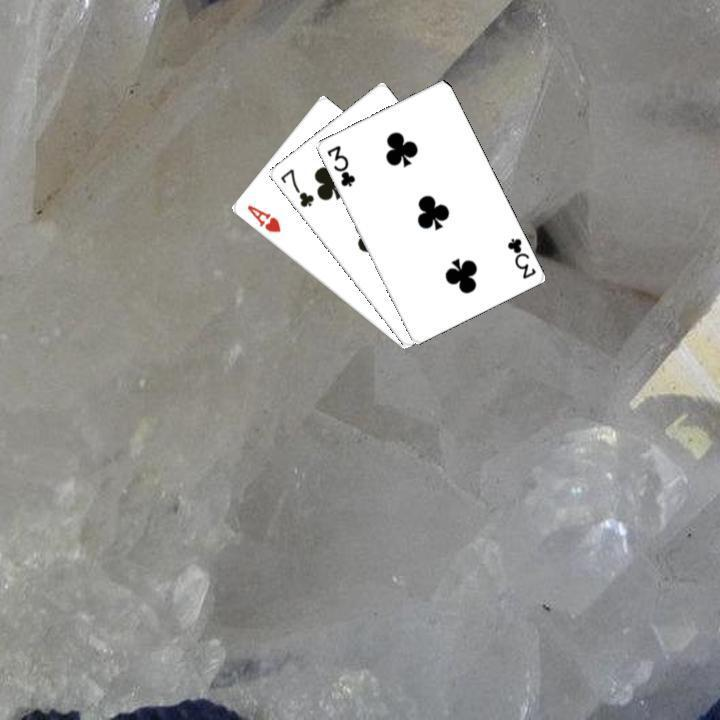3: (502, 233, 538, 281), (322, 140, 357, 189)
7: (275, 164, 316, 210)
A: (242, 200, 283, 235)
